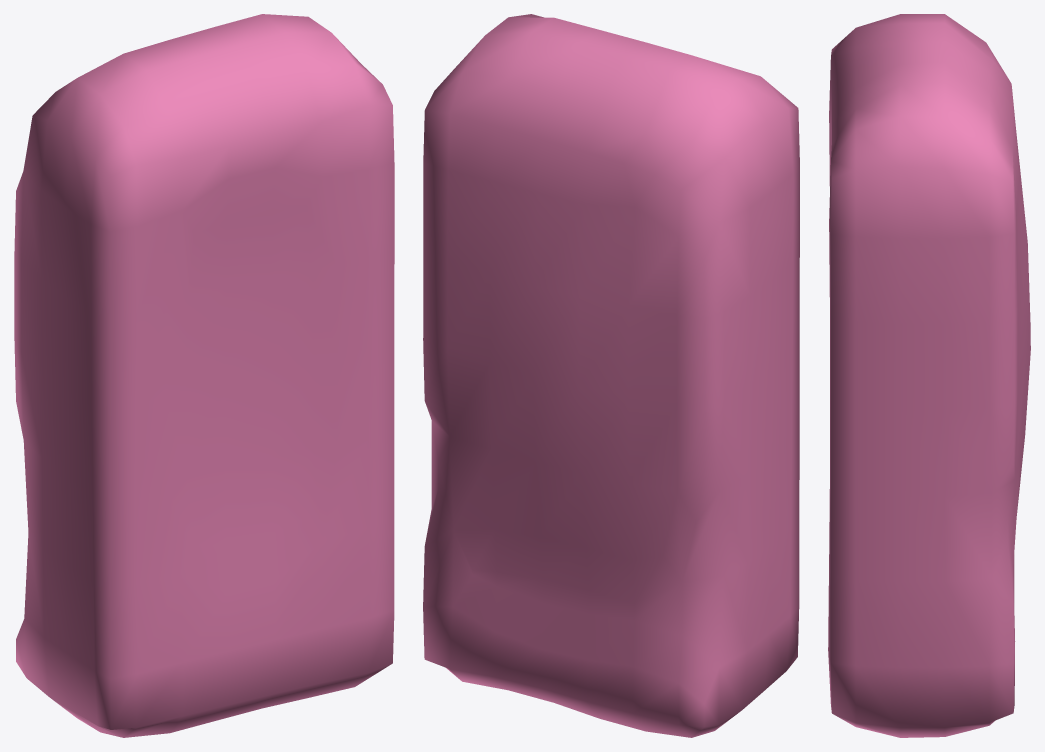
File: Monitor4.fbx
The picture shows the model from 3 angles, left to right: view 1: azimuth 30°, elevation 25°; view 2: azimuth 150°, elevation 25°; view 3: azimuth 270°, elevation 25°; orthographic projection. The views are drawn at different scales.
Visible parts, largest first — view 1: Cube.077; view 2: Cube.077; view 3: Cube.077.
Part boxes in pixels (x1,y1,x2,y2): Cube.077: (14,14,394,737); Cube.077: (423,14,799,737); Cube.077: (828,14,1030,737).
Bounding box in the file's own units: 31.45 × 66.4 × 19.01.
